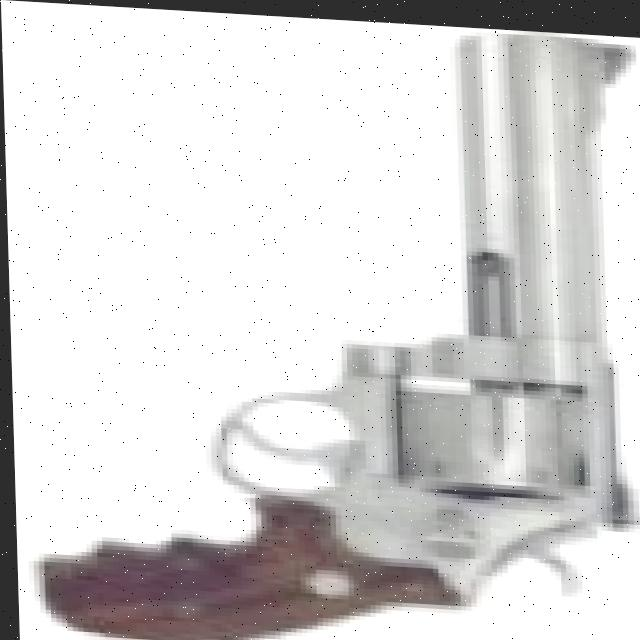pistol: (13, 1, 640, 640)
